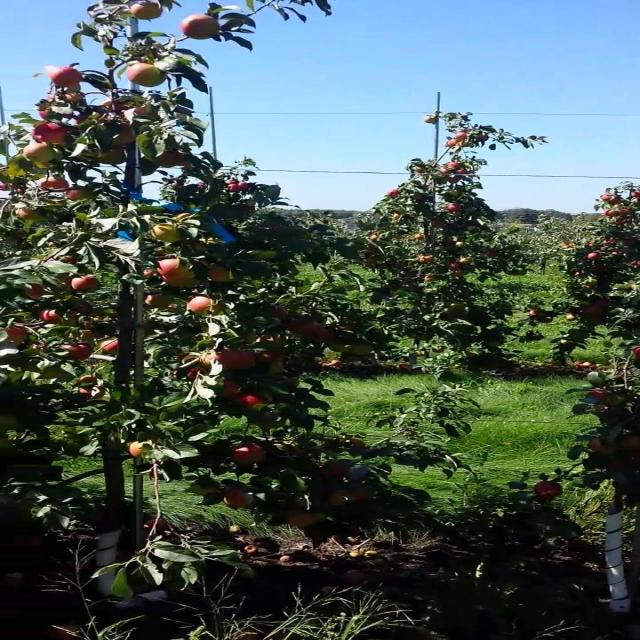apple: (177, 16, 220, 40), (127, 64, 169, 88), (163, 264, 201, 288), (49, 68, 85, 88), (220, 352, 256, 371), (35, 124, 69, 144), (333, 488, 370, 506), (163, 272, 201, 289), (234, 448, 270, 465), (127, 4, 165, 20), (156, 224, 185, 244), (284, 320, 320, 336), (99, 148, 128, 165), (291, 512, 320, 529), (70, 276, 100, 292), (205, 268, 235, 284), (156, 152, 185, 168), (163, 276, 201, 288), (28, 144, 55, 160), (589, 440, 619, 454), (220, 380, 242, 399), (191, 296, 215, 313), (113, 128, 135, 146), (312, 328, 336, 343), (6, 328, 28, 344), (540, 484, 562, 500), (227, 492, 249, 508), (70, 344, 92, 360), (42, 308, 64, 324), (42, 180, 71, 192), (20, 208, 44, 222), (326, 464, 350, 477), (198, 356, 220, 370), (28, 284, 48, 299), (148, 296, 172, 308), (106, 100, 130, 112), (70, 188, 92, 201), (262, 336, 284, 349), (241, 396, 267, 407), (177, 368, 199, 381), (56, 276, 76, 290), (262, 352, 284, 364), (269, 308, 292, 319), (63, 92, 85, 103), (177, 352, 199, 363), (70, 304, 92, 315), (355, 344, 375, 356), (227, 180, 247, 192), (127, 108, 151, 118), (625, 436, 639, 452), (35, 160, 55, 171), (326, 344, 350, 353), (77, 376, 100, 385), (106, 340, 121, 353), (269, 364, 284, 377), (255, 252, 277, 260), (134, 444, 146, 457), (134, 108, 151, 117), (348, 440, 366, 448), (42, 108, 53, 121), (589, 392, 606, 400), (84, 332, 100, 340)
